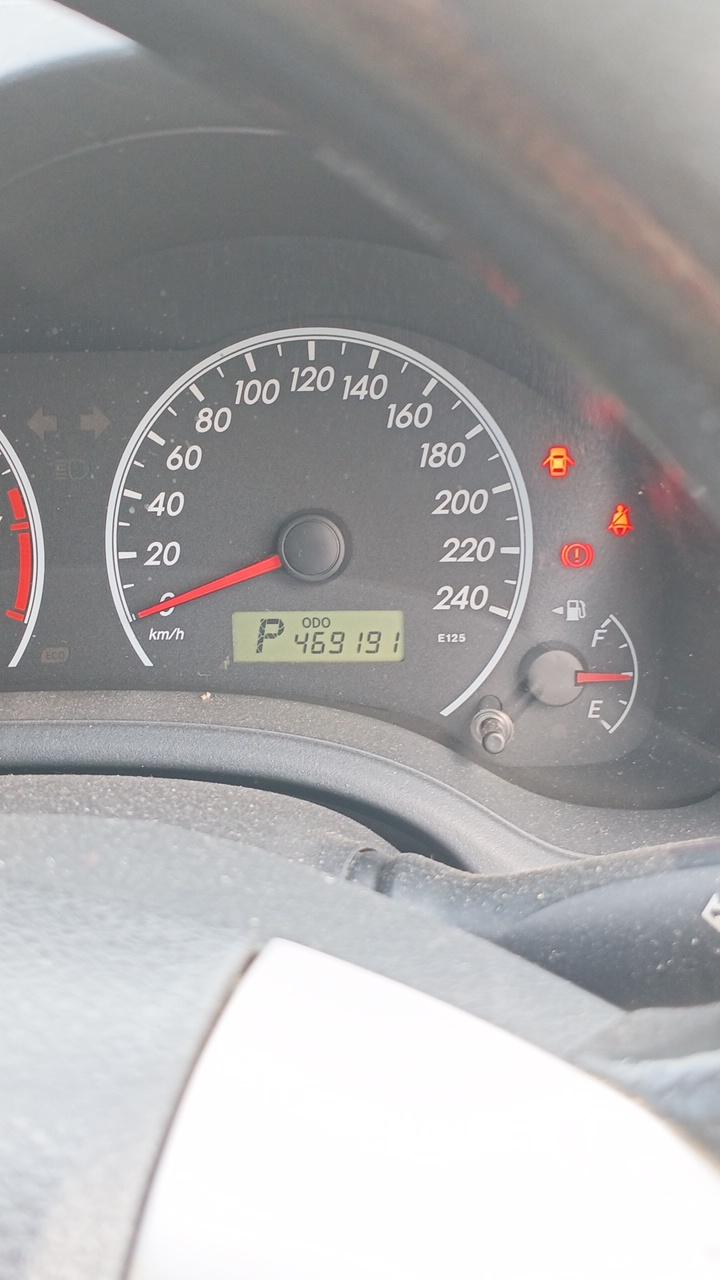1: (392, 631, 401, 654), (356, 631, 364, 654)
4: (294, 632, 309, 655)
6: (311, 632, 326, 655)
9: (328, 631, 346, 655), (365, 631, 382, 654)
X: (254, 618, 286, 655), (321, 617, 331, 629), (302, 617, 311, 628), (312, 617, 320, 629)
odometer: (231, 610, 404, 662)
